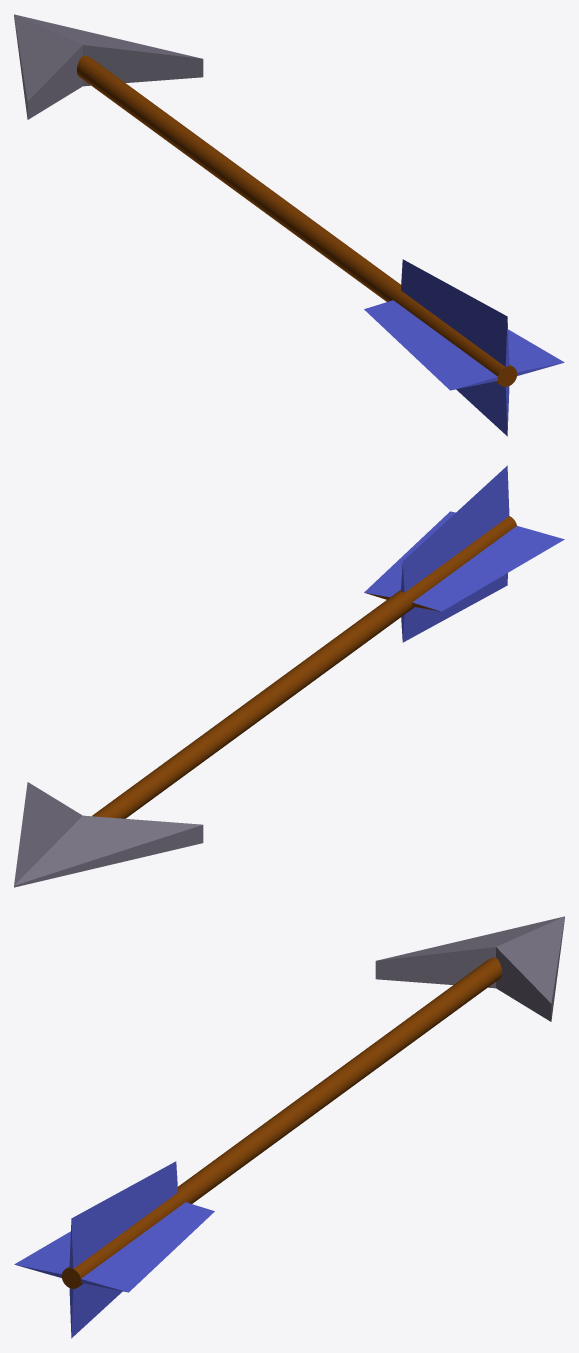
File: Simple_Arrow.fbx
The picture shows the model from 3 angles, top to bottom: view 1: azimuth 30°, elevation 25°; view 2: azimuth 150°, elevation 25°; view 3: azimuth 330°, elevation 25°; orthographic projection.
Parts seen in each view (by area): view 1: Simple Arrow; view 2: Simple Arrow; view 3: Simple Arrow.
Part boxes in pixels (left/top/right/bottom): Simple Arrow: left=14, top=14, right=564, bottom=436; Simple Arrow: left=14, top=465, right=564, bottom=887; Simple Arrow: left=14, top=916, right=564, bottom=1338.
Bounding box in the file's own units: 200 × 131 × 973.
